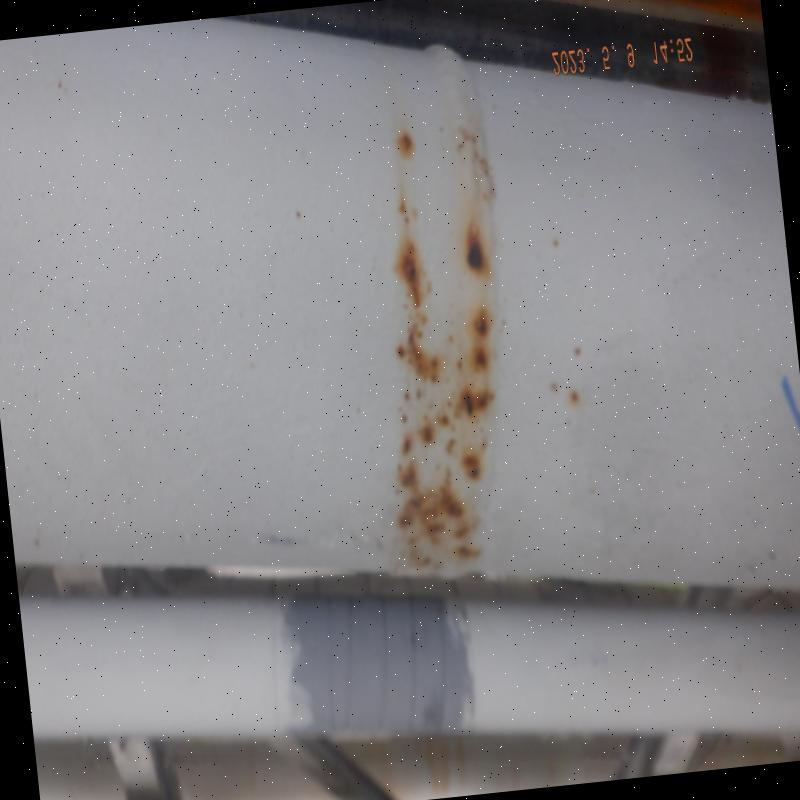corrosion: (370, 178, 464, 552), (453, 208, 518, 443)
